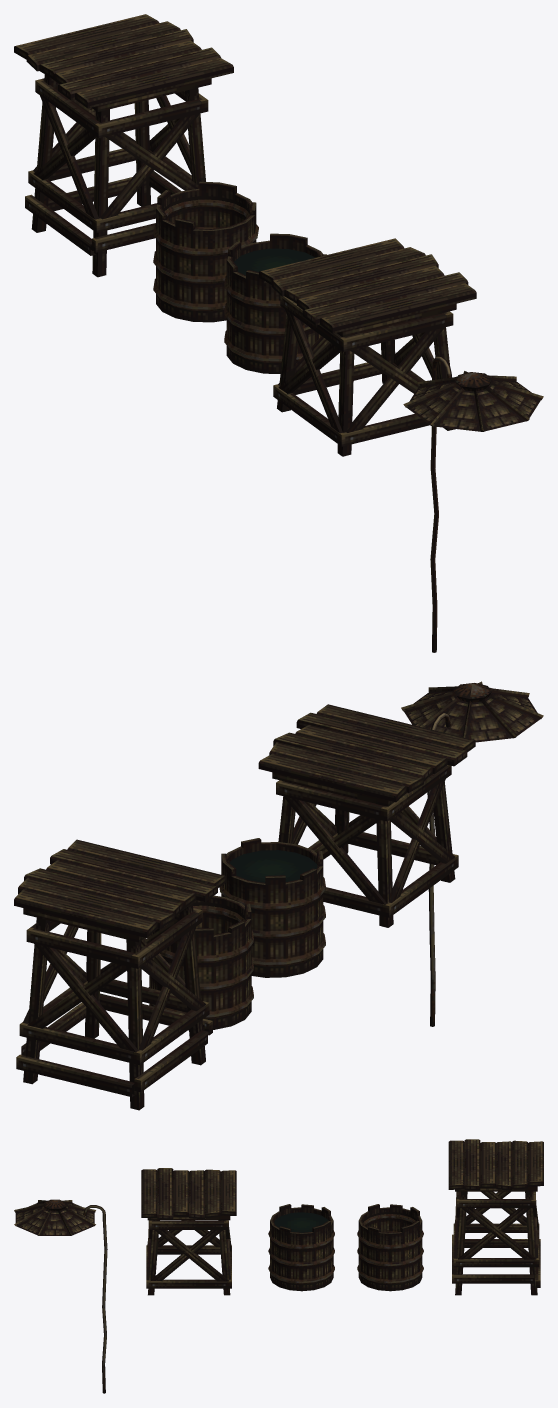
File: EnvObjMD_Pail_A_Barrel.FBX
3 renders of one model, top to bottom at view 1: azimuth 30°, elevation 25°; view 2: azimuth 150°, elevation 25°; view 3: azimuth 270°, elevation 25°, orthographic. The views are drawn at different scales.
Parts seen in each view (by area): view 1: EnvObjMD_Pail_A_Stand_A, EnvObjMD_Pail_A_Stand_B, EnvObjMD_Pail_A_Barrel_Empty, EnvObjMD_Pail_A_Barrel, EnvObjMD_Pail_A_Lid; view 2: EnvObjMD_Pail_A_Stand_A, EnvObjMD_Pail_A_Stand_B, EnvObjMD_Pail_A_Barrel, EnvObjMD_Pail_A_Barrel_Empty, EnvObjMD_Pail_A_Lid; view 3: EnvObjMD_Pail_A_Stand_A, EnvObjMD_Pail_A_Stand_B, EnvObjMD_Pail_A_Barrel_Empty, EnvObjMD_Pail_A_Barrel, EnvObjMD_Pail_A_Lid.
Boxes of the visible parts, left/top/right/bottom form: EnvObjMD_Pail_A_Stand_A: left=14, top=14, right=233, bottom=277; EnvObjMD_Pail_A_Stand_B: left=259, top=238, right=476, bottom=456; EnvObjMD_Pail_A_Barrel_Empty: left=153, top=181, right=258, bottom=322; EnvObjMD_Pail_A_Barrel: left=224, top=233, right=326, bottom=373; EnvObjMD_Pail_A_Lid: left=403, top=356, right=543, bottom=652; EnvObjMD_Pail_A_Stand_A: left=14, top=839, right=226, bottom=1110; EnvObjMD_Pail_A_Stand_B: left=258, top=704, right=475, bottom=927; EnvObjMD_Pail_A_Barrel: left=219, top=838, right=325, bottom=977; EnvObjMD_Pail_A_Barrel_Empty: left=147, top=895, right=253, bottom=1029; EnvObjMD_Pail_A_Lid: left=401, top=681, right=543, bottom=1026; EnvObjMD_Pail_A_Stand_A: left=448, top=1139, right=543, bottom=1295; EnvObjMD_Pail_A_Stand_B: left=141, top=1168, right=236, bottom=1295; EnvObjMD_Pail_A_Barrel_Empty: left=357, top=1204, right=423, bottom=1291; EnvObjMD_Pail_A_Barrel: left=268, top=1204, right=334, bottom=1291; EnvObjMD_Pail_A_Lid: left=14, top=1199, right=107, bottom=1393.
Size of the model in its own units: 353 by 800 by 1669.
Materials: 1 (1 with a texture image).
